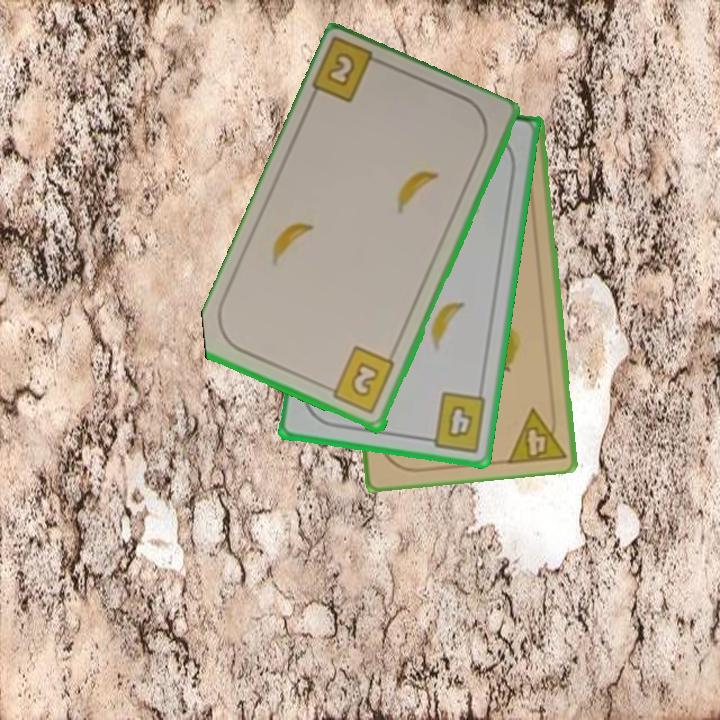2b: (321, 343, 398, 417), (310, 37, 391, 106)
4b: (419, 388, 490, 455)
4p: (503, 400, 569, 466)
